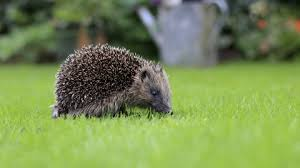hedgehog: (53, 45, 175, 117)
